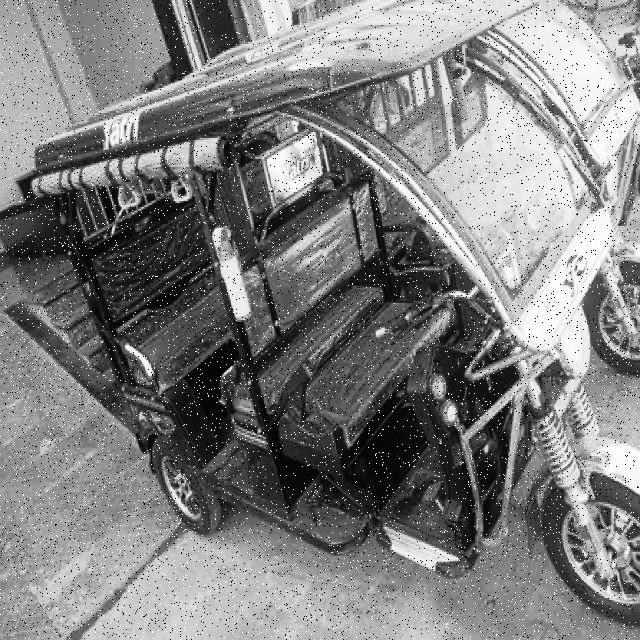Toto: (31, 9, 640, 634)
